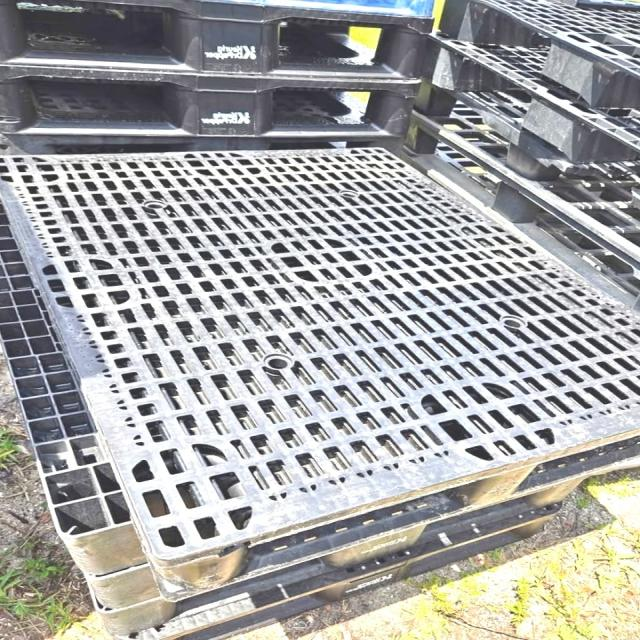non-igps: (0, 141, 640, 634), (78, 465, 602, 640), (100, 486, 567, 640), (386, 97, 640, 324), (406, 24, 640, 219), (0, 0, 438, 89), (0, 59, 428, 148), (418, 0, 640, 155)
